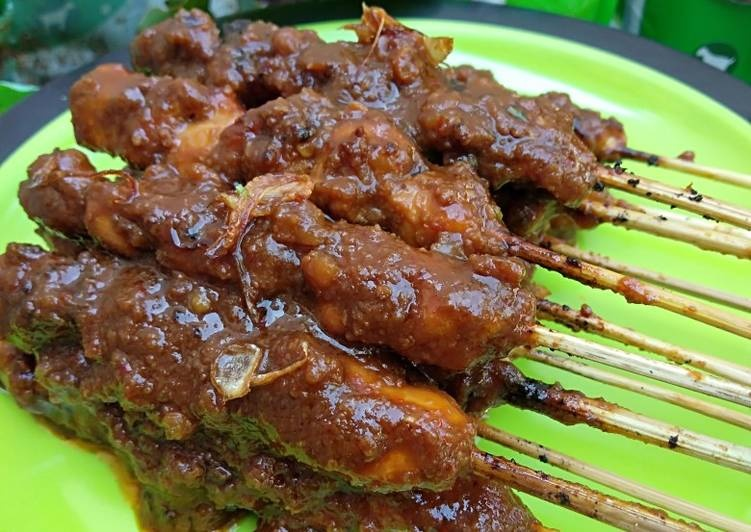sate_madura: (4, 3, 751, 532)
